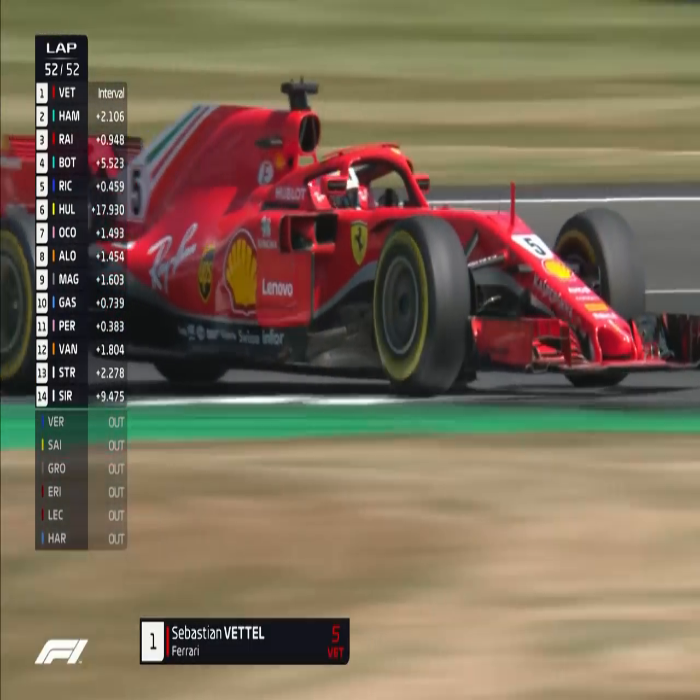f1_car: (2, 81, 700, 402)
